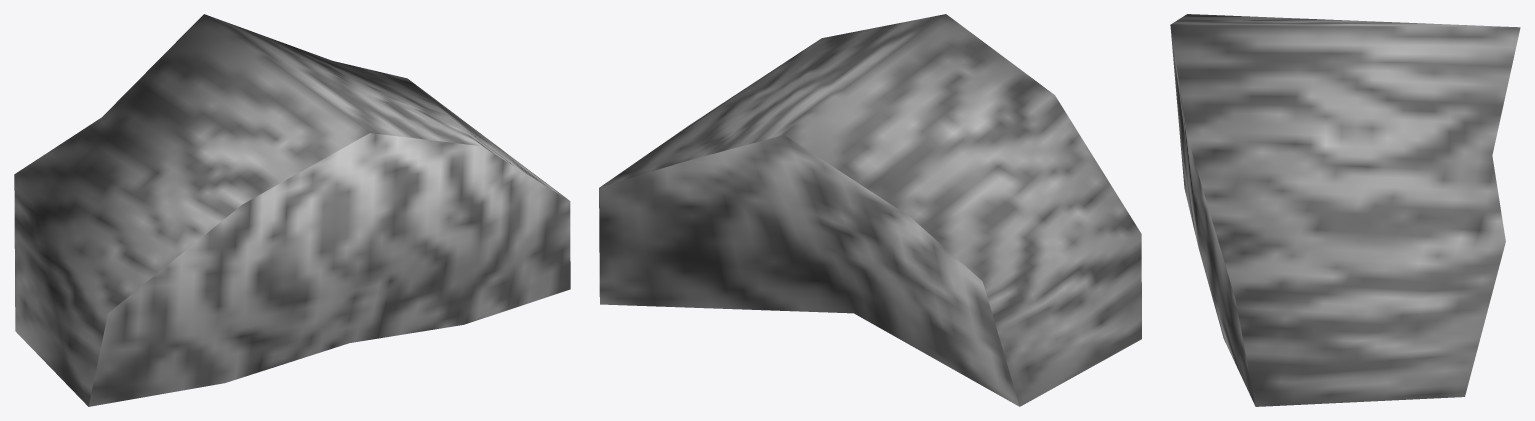
The model's file is FakeBeard_Bob_Beard_Chin.fbx.
The picture shows the model from 3 angles, left to right: view 1: azimuth 30°, elevation 25°; view 2: azimuth 150°, elevation 25°; view 3: azimuth 270°, elevation 25°; orthographic projection. The views are drawn at different scales.
Visible parts, largest first — view 1: BoxOfJars003; view 2: BoxOfJars003; view 3: BoxOfJars003.
Boxes of the visible parts, <box> form: BoxOfJars003: <box>14,14,570,406</box>; BoxOfJars003: <box>599,14,1141,406</box>; BoxOfJars003: <box>1170,14,1520,406</box>.
Bounding box in the file's own units: 3.61 × 1.77 × 2.15.
